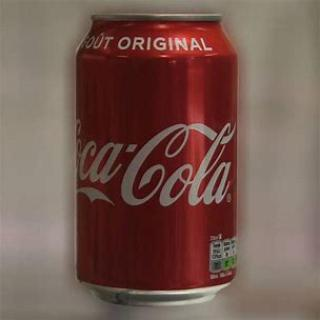Anorganik: (70, 7, 244, 313)
